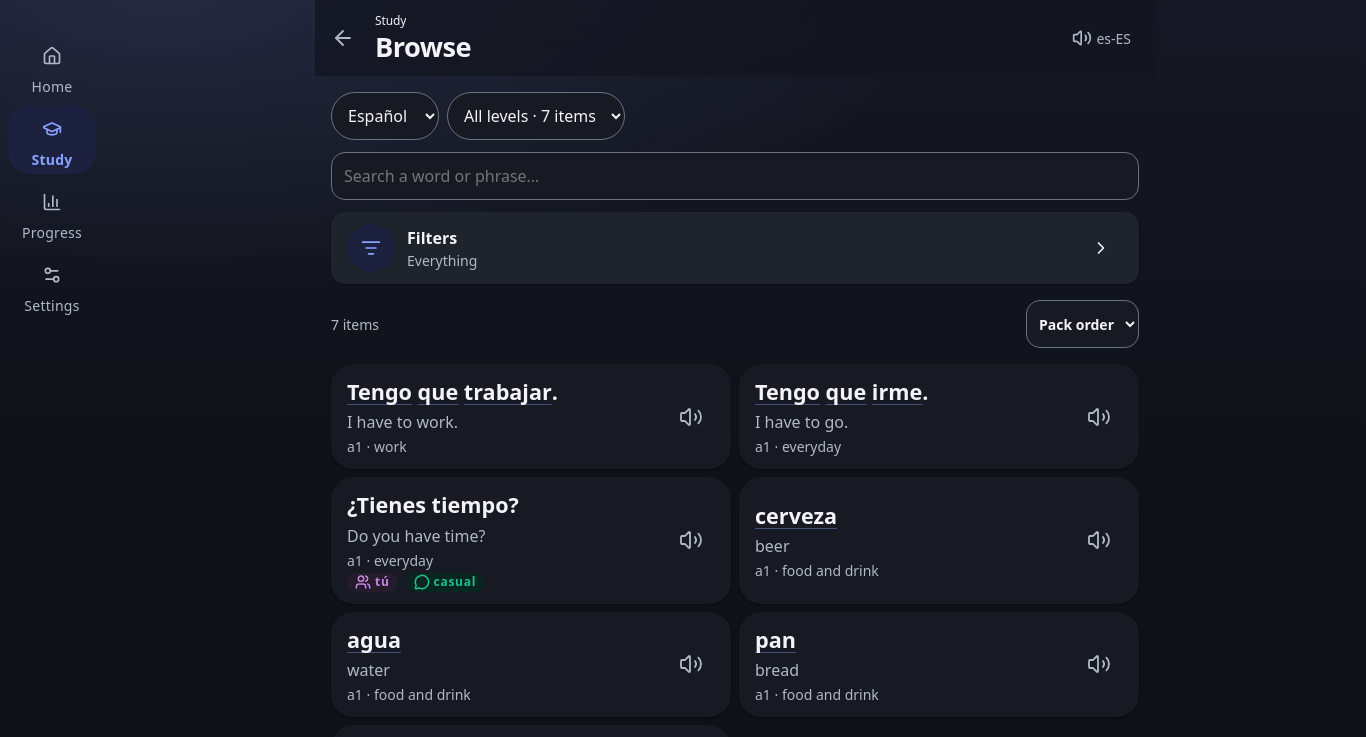
the course bar › offers the languages the loaded packs provide
Check: the text "7 items" is shown, box [331, 314, 379, 334]
Select "Français" in the 1st dropdown named "Language" at {"x": 385, "y": 116}, box [331, 92, 439, 140]
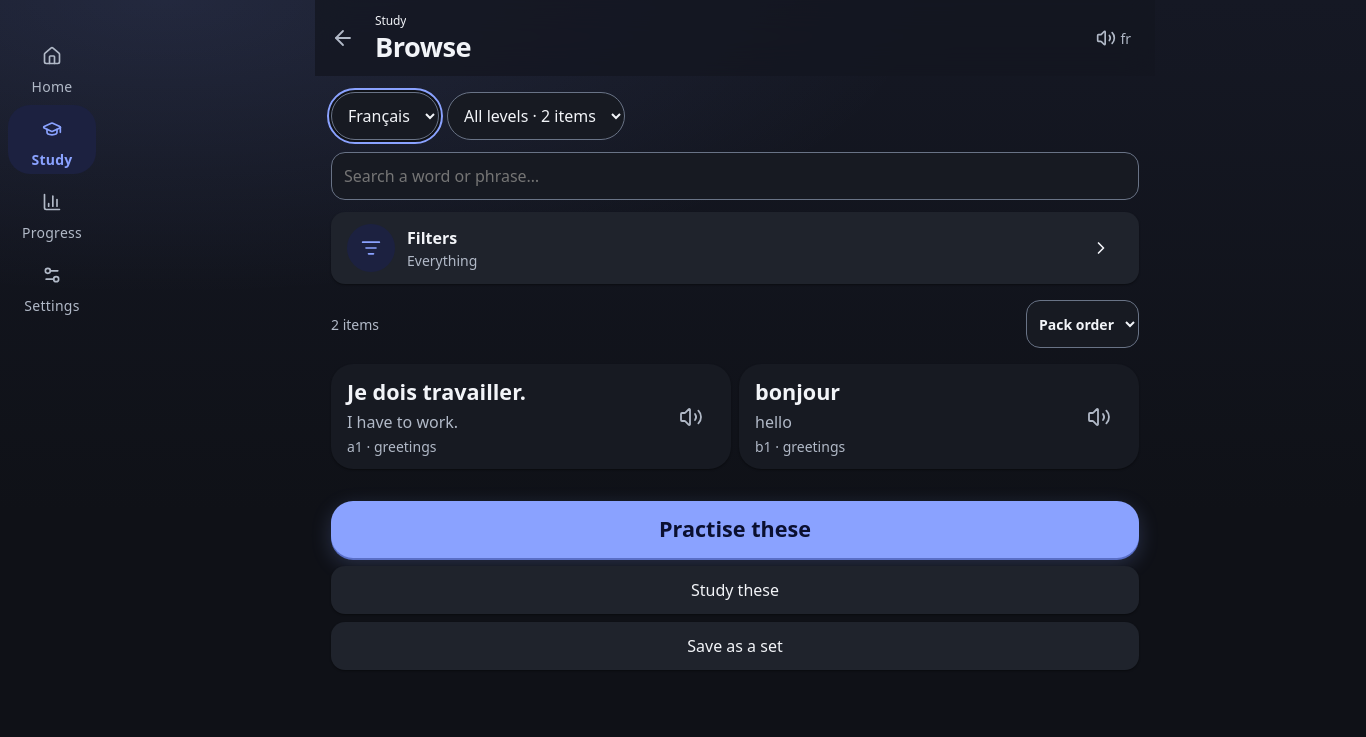
Check: the text "2 items" is shown, box [331, 314, 379, 334]
